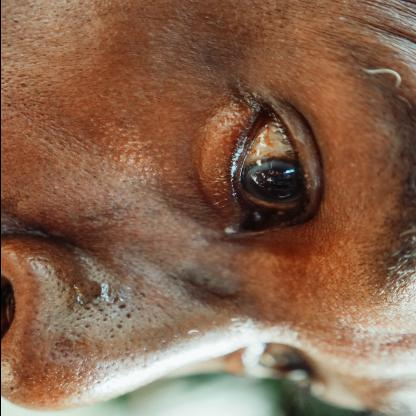Eye: (196, 76, 325, 236), (223, 341, 328, 396)
Nose: (0, 235, 268, 411)
